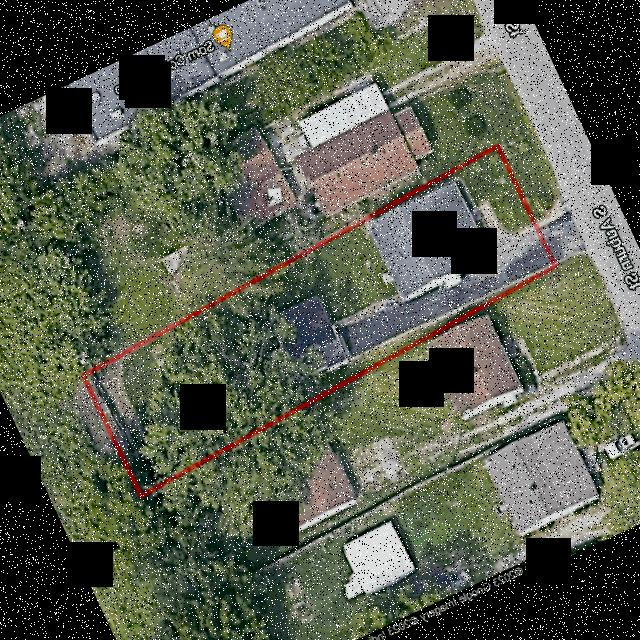Driveway: (335, 201, 552, 358)
Extra Driveway: (540, 198, 590, 262)
Extra Lawn: (498, 126, 564, 224)
House: (370, 181, 489, 300)
Other: (271, 296, 347, 381), (381, 271, 394, 285)
